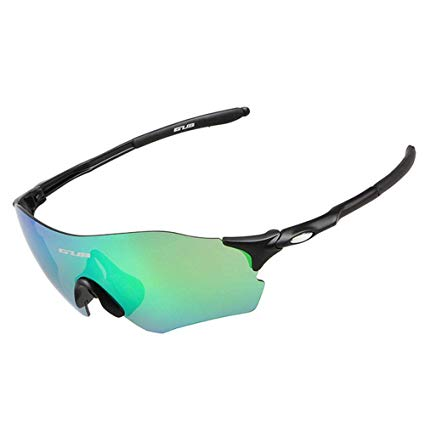sunglasses: (7, 115, 408, 337)
